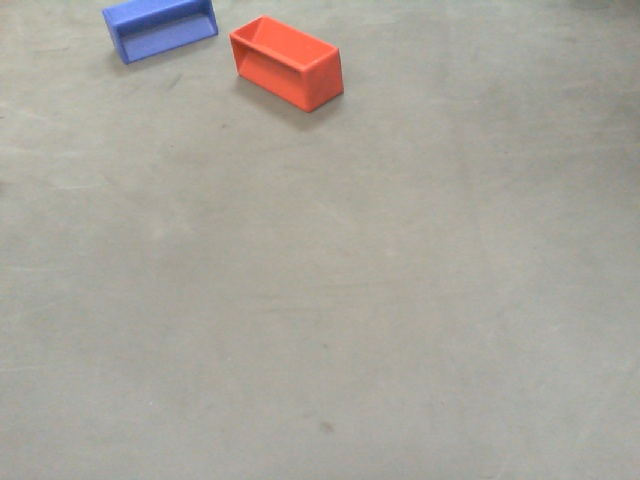BlueSample: (101, 1, 217, 63)
RedSample: (227, 13, 345, 114)
